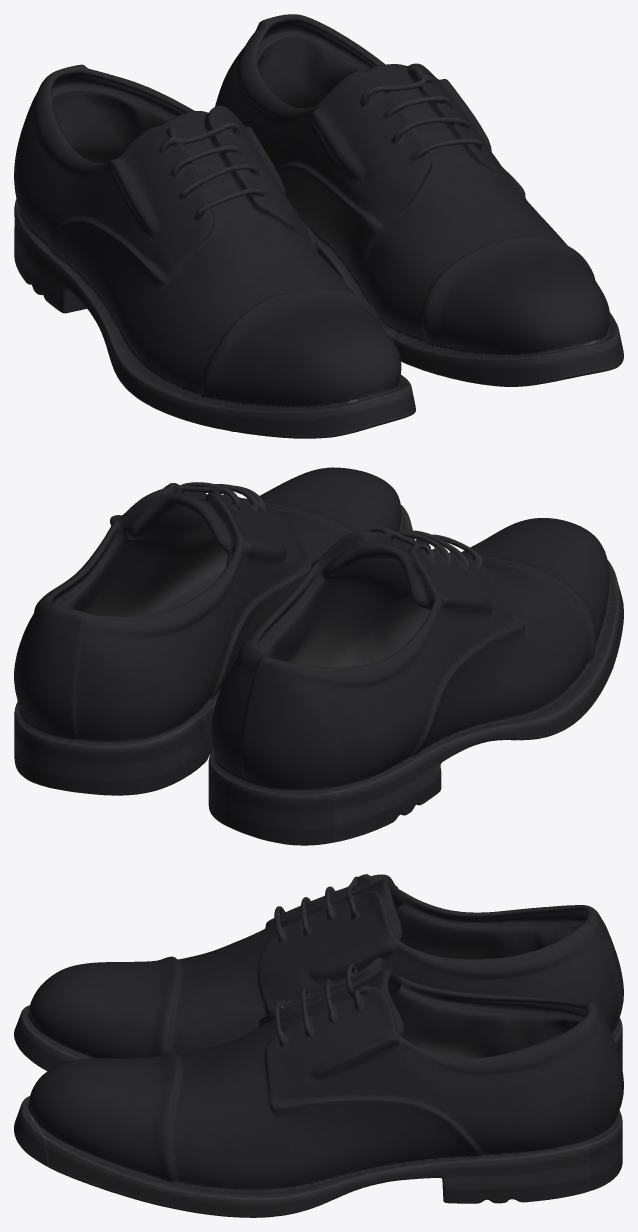
The model's file is fermo.glb.
The picture shows the model from 3 angles, top to bottom: view 1: azimuth 30°, elevation 25°; view 2: azimuth 150°, elevation 25°; view 3: azimuth 270°, elevation 25°; orthographic projection. The views are drawn at different scales.
Size of the model in its own units: 1.47 by 0.6658 by 1.9.
Materials: 1 (1 with a texture image).
